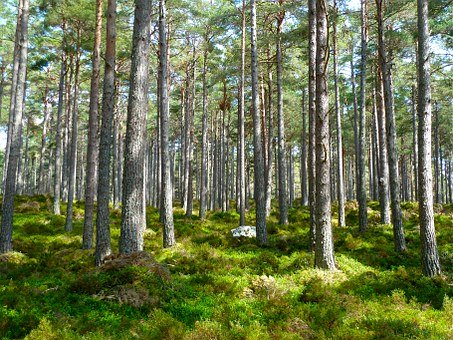field: (13, 209, 452, 337)
forest: (4, 5, 449, 290)
tree: (231, 1, 360, 266), (324, 1, 453, 266), (68, 1, 165, 253)
